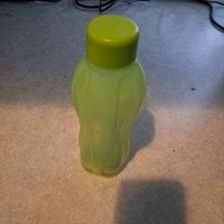bottle: (69, 11, 149, 178)
